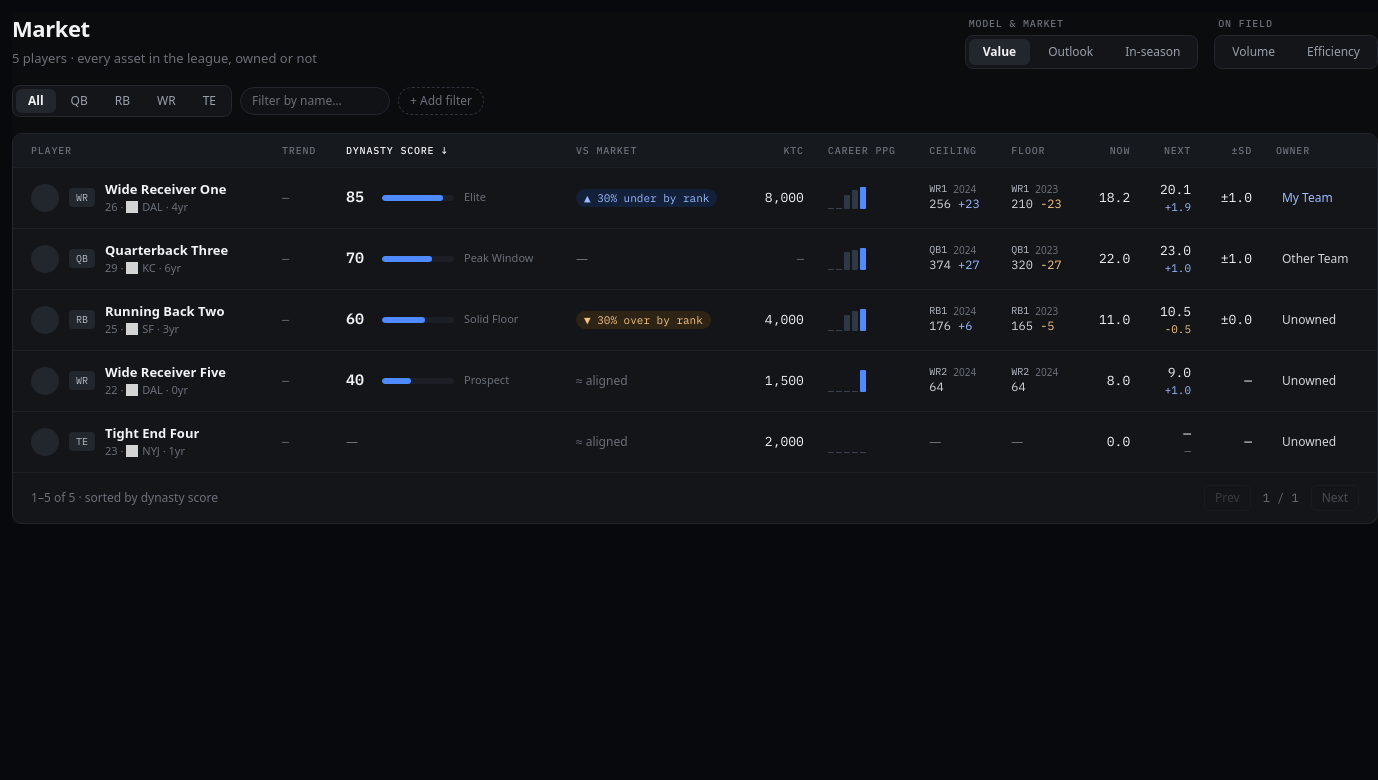
Test: Market › renders the four column sets with their own headers
Expected: the column heading "Dynasty score ↓" is shown, [334, 134, 564, 167]
Expected: the column heading "Vs market" is shown, [564, 134, 746, 167]
Step 1. Click the button "Outlook" → (1071,52), box [1034, 38, 1107, 64]
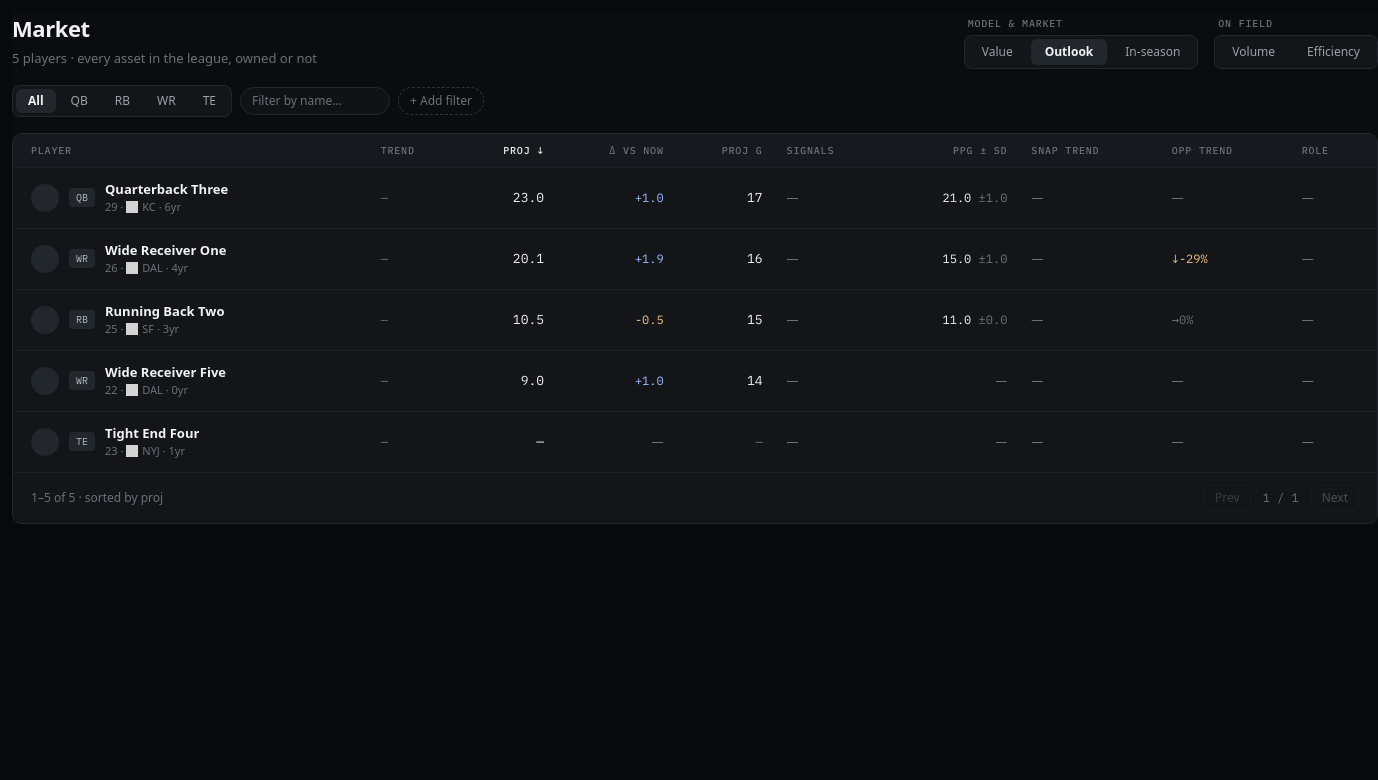
Now the column heading "Proj ↓" is shown, box [457, 134, 556, 167]
Now the column heading "Signals" is shown, box [775, 134, 884, 167]
Step 2. Click the button "Volume" → (1254,52), box [1218, 38, 1289, 64]
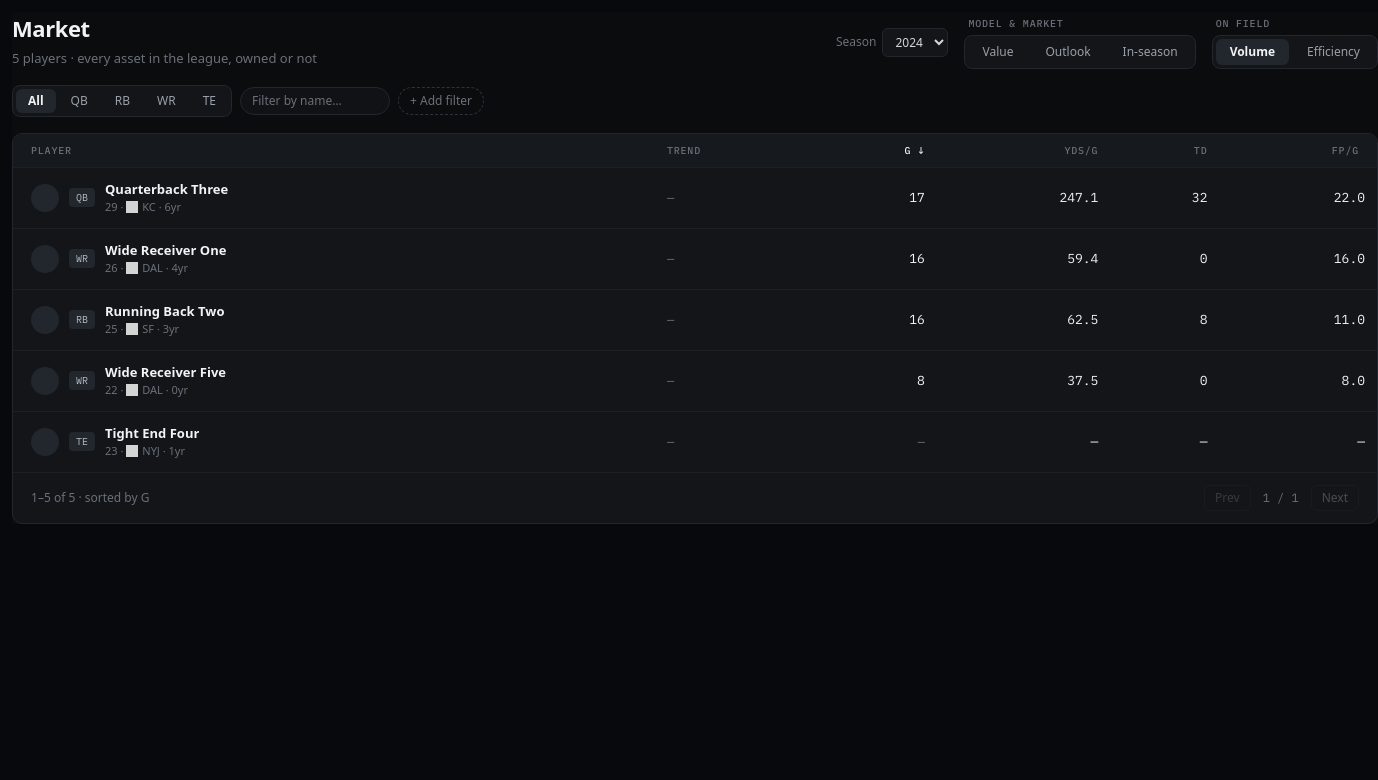
Now the column heading "G ↓" is shown, box [815, 134, 937, 167]
Step 3. Click the button "Efficiency" → (1334,52), box [1293, 38, 1374, 64]
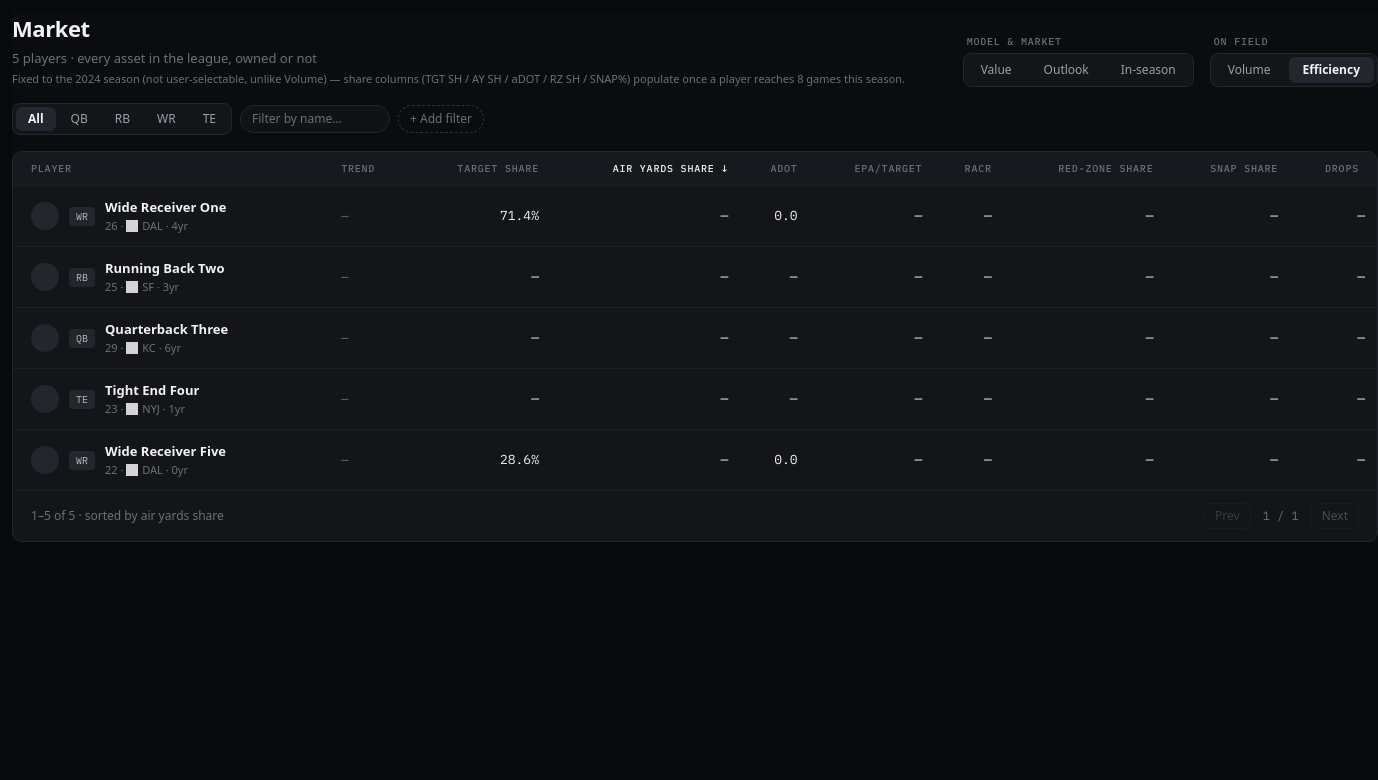
Now the column heading "Target share" is shown, box [408, 152, 551, 186]
